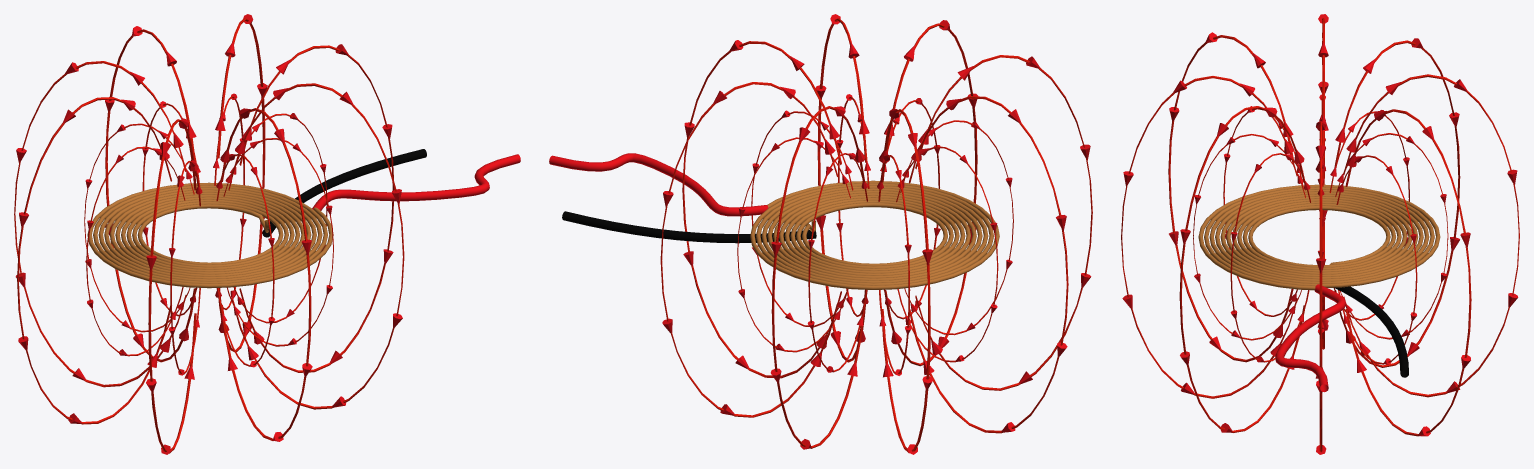
The model's file is 接收线圈.glb.
3 renders of one model, left to right at view 1: azimuth 30°, elevation 25°; view 2: azimuth 150°, elevation 25°; view 3: azimuth 270°, elevation 25°, orthographic. The views are drawn at different scales.
Visible parts, largest first — view 1: Spiral.001, 磁感线3, 磁感线4, 磁感线6, 磁感线5, 贝塞尔曲线.002, 贝塞尔曲线.003; view 2: Spiral.001, 磁感线3, 磁感线4, 磁感线6, 磁感线5, 贝塞尔曲线.002, 贝塞尔曲线.003; view 3: Spiral.001, 磁感线4, 磁感线3, 磁感线6, 磁感线5, 贝塞尔曲线.002, 贝塞尔曲线.003.
Part boxes in pixels (box(x1,y1,x2,y2)): Spiral.001: box(87, 182, 333, 288); 磁感线3: box(17, 26, 394, 441); 磁感线4: box(14, 14, 404, 454); 磁感线6: box(84, 93, 333, 375); 磁感线5: box(86, 101, 327, 367); 贝塞尔曲线.002: box(312, 154, 520, 210); 贝塞尔曲线.003: box(262, 149, 426, 237); Spiral.001: box(750, 180, 999, 289); 磁感线3: box(682, 20, 1068, 449); 磁感线4: box(660, 14, 1092, 454); 磁感线6: box(737, 94, 1013, 375); 磁感线5: box(751, 98, 998, 372); 贝塞尔曲线.002: box(549, 153, 768, 216); 贝塞尔曲线.003: box(562, 211, 816, 243); Spiral.001: box(1198, 184, 1440, 290); 磁感线4: box(1168, 32, 1471, 436); 磁感线3: box(1121, 14, 1519, 454); 磁感线6: box(1223, 106, 1417, 364); 磁感线5: box(1193, 94, 1448, 340); 贝塞尔曲线.002: box(1275, 284, 1346, 392); 贝塞尔曲线.003: box(1334, 286, 1408, 377).
Size of the model in its own units: 5.19 by 3.22 by 3.61.
